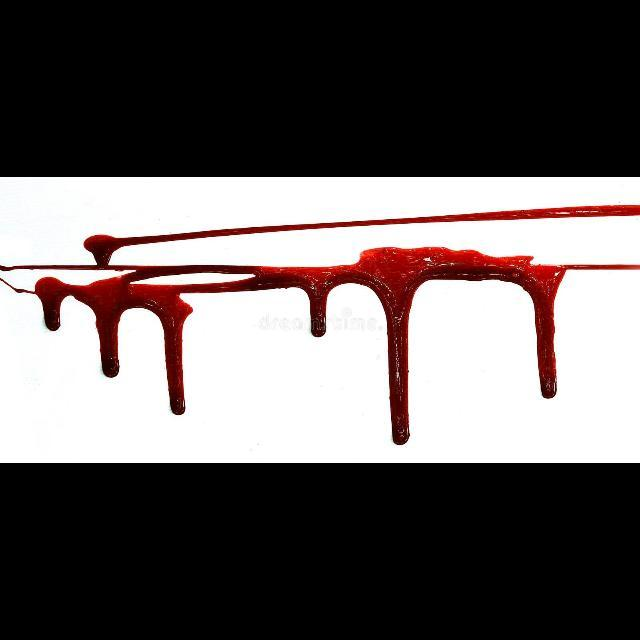blood: (0, 205, 639, 446)
